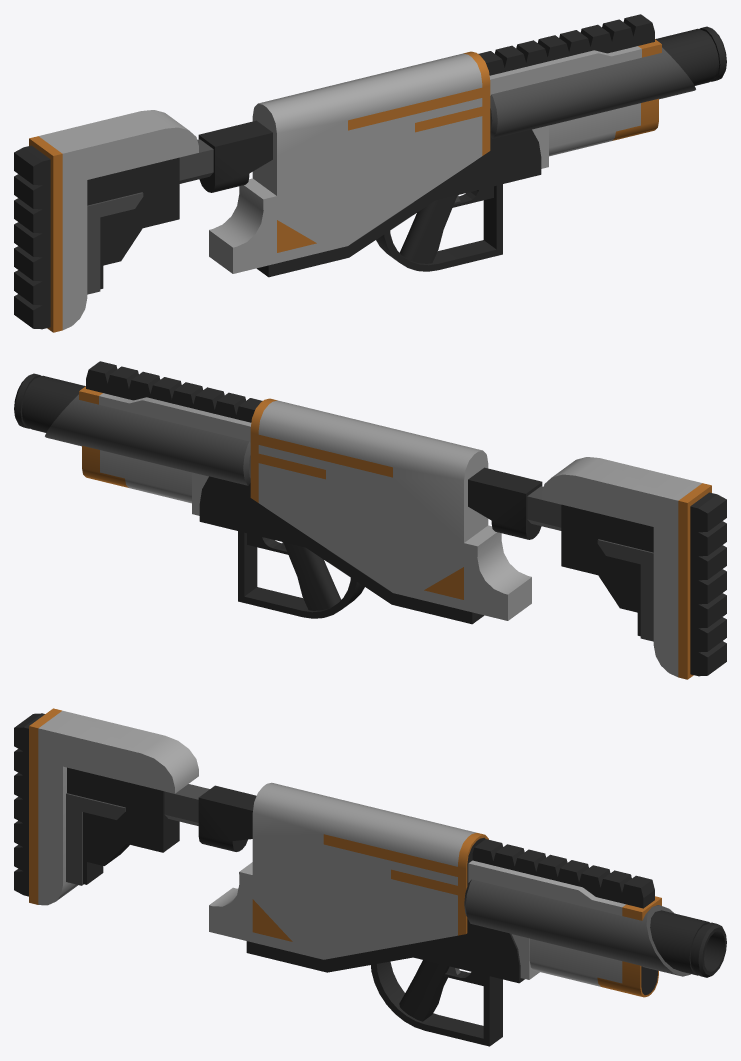
Rendered from quaternius-modular-sci-fi-guns-grenade-1.glb.
3 renders of one model, top to bottom at view 1: azimuth 30°, elevation 25°; view 2: azimuth 150°, elevation 25°; view 3: azimuth 330°, elevation 25°, orthographic.
Parts seen in each view (by area): view 1: Grenade_1; view 2: Grenade_1; view 3: Grenade_1.
Part boxes in pixels (<box>): Grenade_1: <box>14,14,726,332</box>; Grenade_1: <box>14,361,726,679</box>; Grenade_1: <box>14,708,726,1046</box>.
Bounding box in the file's own units: 1.81 × 0.5339 × 0.1459.
